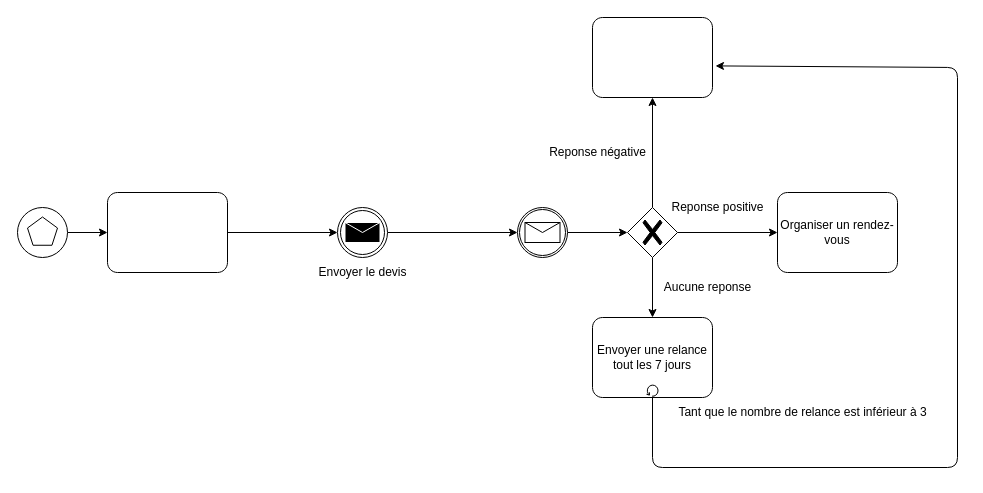
The diagram is 983 pixels wide and 493 high, and some of its shapes have lost their labels. Each missing label, with the centre of its shape:
"Archiver le dossier" goes at pixel 652 57.
"Recevoir la demande" goes at pixel 167 232.
